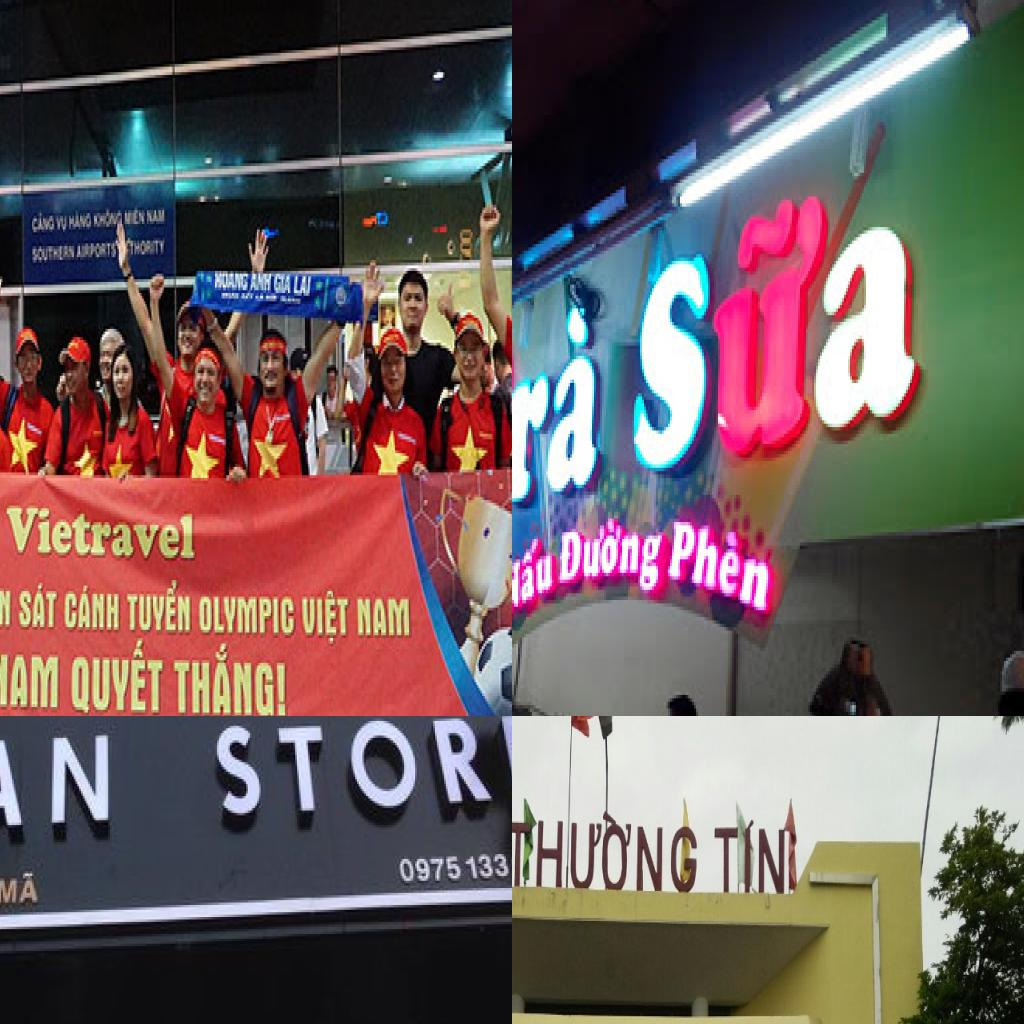text: (628, 129, 924, 488), (210, 716, 512, 841), (512, 288, 608, 512), (512, 805, 700, 899), (0, 728, 117, 861), (664, 512, 780, 620), (6, 500, 200, 564), (556, 512, 670, 607), (170, 643, 291, 716), (67, 640, 165, 716), (196, 591, 298, 644), (395, 847, 512, 888), (512, 525, 556, 630), (125, 580, 195, 644), (0, 649, 63, 716), (64, 583, 124, 641), (355, 591, 415, 646), (298, 591, 352, 652), (18, 586, 60, 632), (0, 868, 46, 907), (30, 240, 77, 266), (132, 235, 168, 263), (77, 240, 119, 262), (215, 268, 251, 293), (94, 208, 124, 232), (0, 582, 13, 632), (32, 210, 55, 235), (125, 204, 147, 230), (69, 210, 93, 232), (145, 204, 167, 226), (274, 274, 293, 296), (251, 274, 272, 293), (55, 213, 69, 235)
